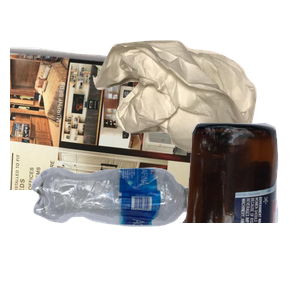glass: (87, 120, 300, 300)
paper: (10, 44, 232, 224)
plastic: (29, 165, 227, 300)
trash: (90, 38, 300, 183)
